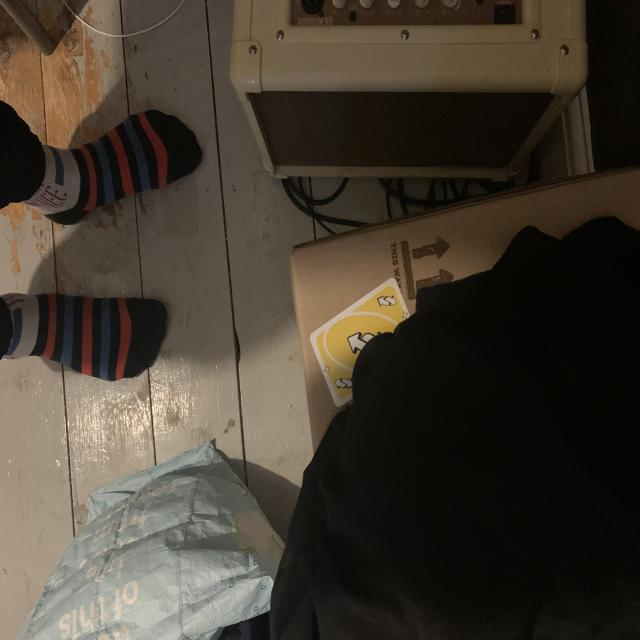lyellowrevers-20: (375, 292, 398, 314)
